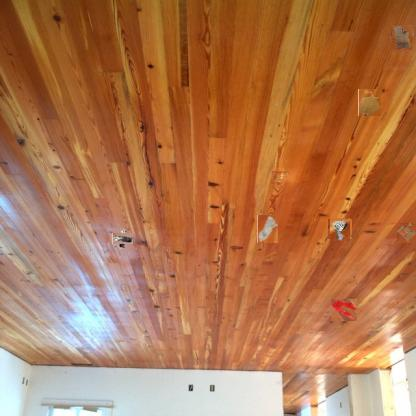dirty: (257, 215, 278, 243), (390, 26, 414, 48), (329, 218, 351, 240), (398, 224, 416, 242), (115, 230, 131, 247)
liquid: (358, 89, 381, 116), (331, 299, 357, 321)
